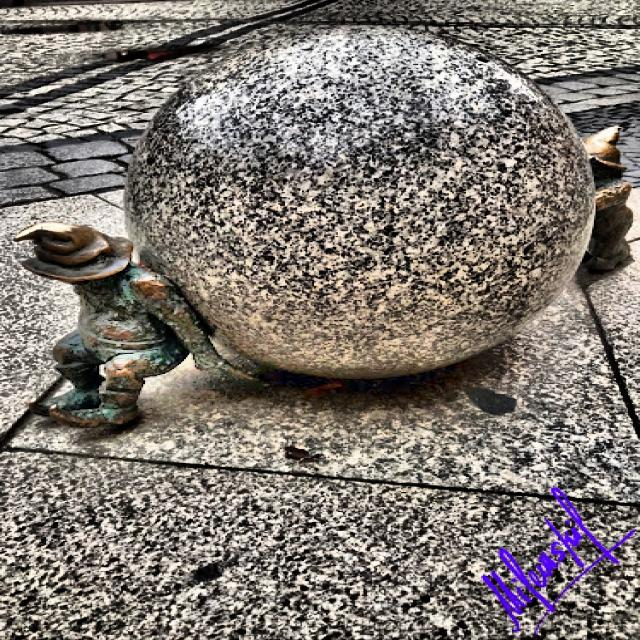Syzyfki: (6, 21, 640, 450)
